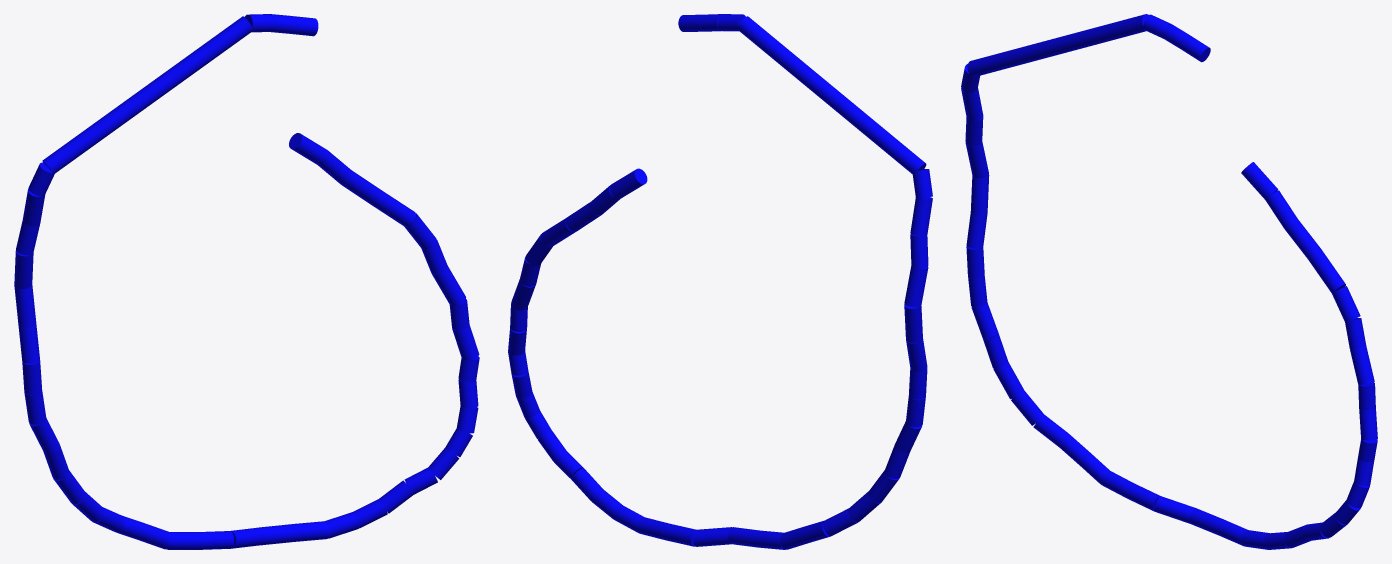
3 views of the same model, side by side, from view 1: azimuth 30°, elevation 25°; view 2: azimuth 150°, elevation 25°; view 3: azimuth 330°, elevation 25° (orthographic). The views are drawn at different scales.
Parts seen in each view (by area): view 1: Cylinder(Clone) (×23); view 2: Cylinder(Clone) (×14); view 3: Cylinder(Clone) (×24).
Boxes of the visible parts, x1,y1,x2,y2 form: Cylinder(Clone) (×23): (14, 16, 479, 549); Cylinder(Clone) (×14): (540, 16, 932, 546); Cylinder(Clone) (×24): (961, 14, 1377, 534).
Bounding box in the file's own units: 0.2882 × 0.3398 × 0.0452.
